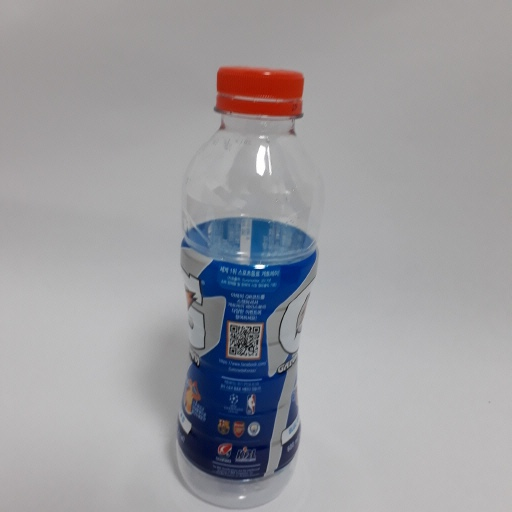Plastic_0: (170, 64, 323, 508)
